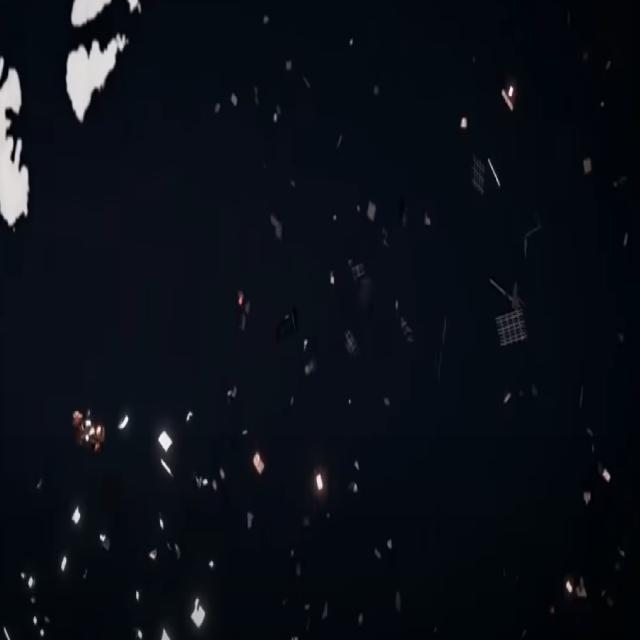large_debris: (578, 433, 624, 534), (494, 290, 536, 369), (555, 548, 591, 623), (69, 392, 105, 462), (247, 433, 271, 509), (501, 66, 527, 136), (183, 580, 211, 640), (232, 283, 260, 342), (152, 419, 176, 481), (196, 457, 223, 503), (481, 151, 503, 200), (312, 459, 330, 517), (69, 503, 91, 539), (341, 330, 355, 372), (147, 531, 161, 571), (117, 413, 135, 442)
